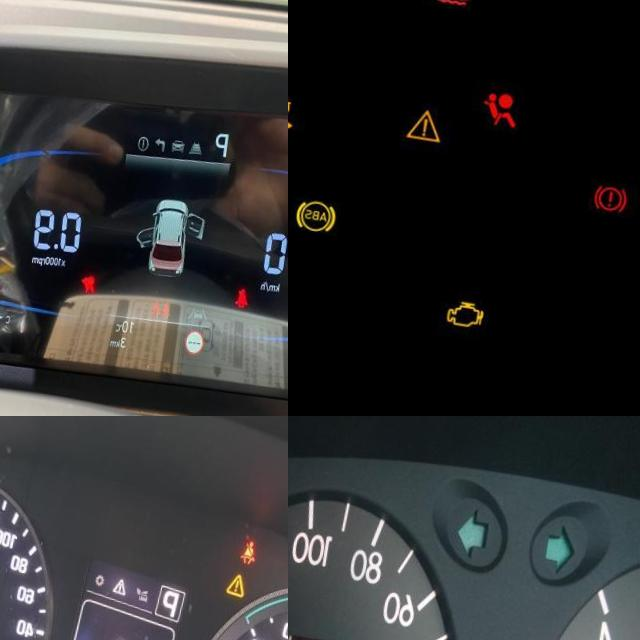Central Warning lamp: (235, 558, 257, 584)
